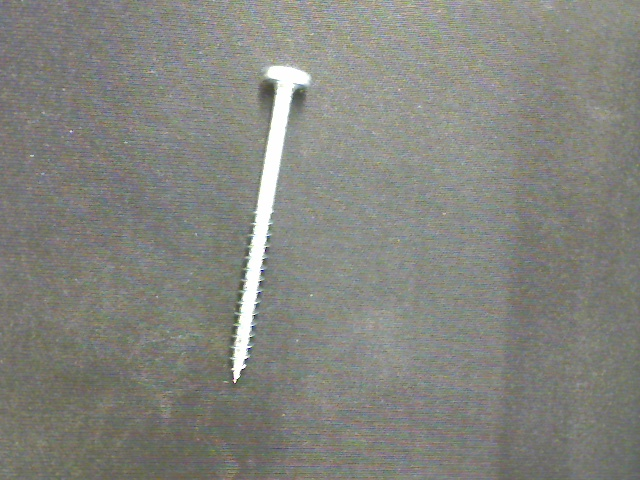Screw: (231, 64, 312, 383)
